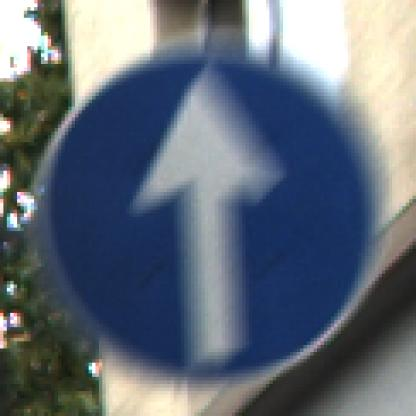AheadOnly: (35, 40, 383, 382)
